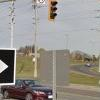Traffic light: (43, 0, 64, 25)
